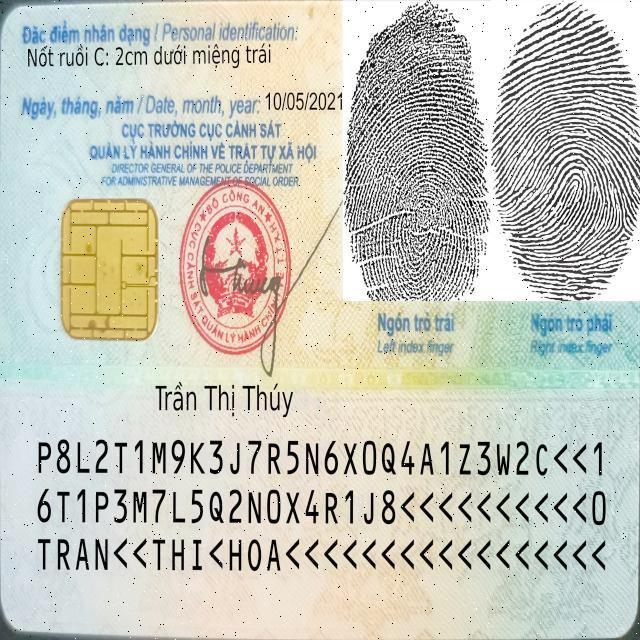features: (25, 42, 278, 70)
finger_print: (342, 0, 496, 361), (489, 0, 640, 359)
issue_date: (263, 87, 343, 115)
